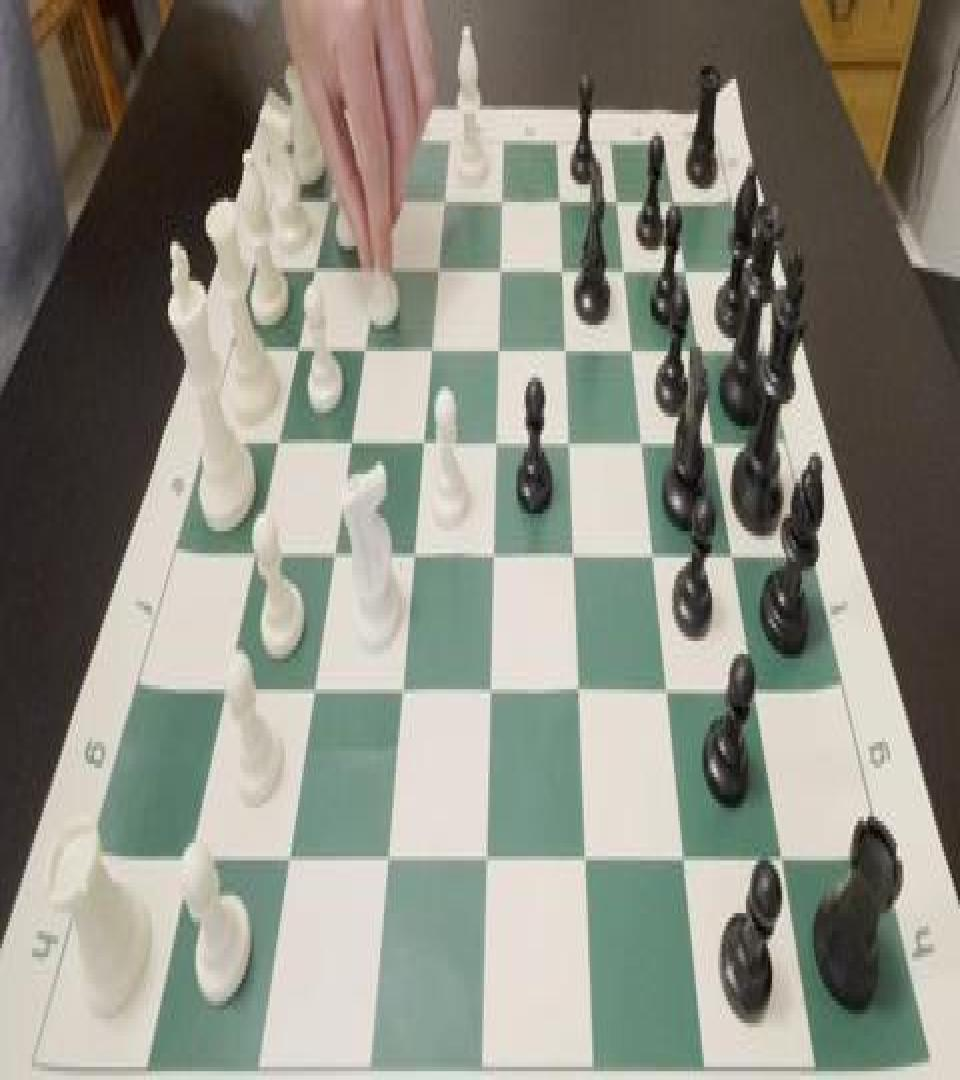xcorner: (664, 178, 684, 222), (606, 178, 626, 222), (548, 178, 568, 222), (491, 178, 511, 222), (433, 178, 453, 222), (375, 178, 395, 222), (317, 178, 337, 222), (675, 246, 695, 290), (613, 246, 633, 290), (551, 246, 571, 290), (489, 246, 509, 290), (427, 246, 447, 290), (364, 246, 384, 290), (302, 246, 322, 290), (689, 325, 709, 369), (622, 325, 642, 369), (554, 325, 574, 369), (487, 325, 507, 369), (420, 325, 440, 369), (353, 325, 373, 369), (285, 325, 305, 369), (704, 417, 724, 461), (631, 417, 651, 461), (558, 419, 578, 463), (485, 419, 505, 463), (412, 419, 432, 463), (339, 419, 359, 463), (266, 419, 286, 463), (722, 529, 742, 573), (643, 529, 663, 573), (563, 529, 583, 573), (483, 529, 503, 573), (403, 529, 423, 573), (322, 529, 342, 573), (242, 531, 262, 575), (745, 663, 765, 707), (656, 663, 676, 707), (568, 663, 588, 707), (480, 665, 500, 709), (391, 665, 411, 709), (303, 665, 323, 709), (214, 665, 234, 709), (772, 830, 792, 874), (674, 830, 694, 874), (575, 830, 595, 874), (476, 830, 496, 874), (377, 832, 397, 876), (278, 832, 298, 876), (179, 832, 199, 876)
